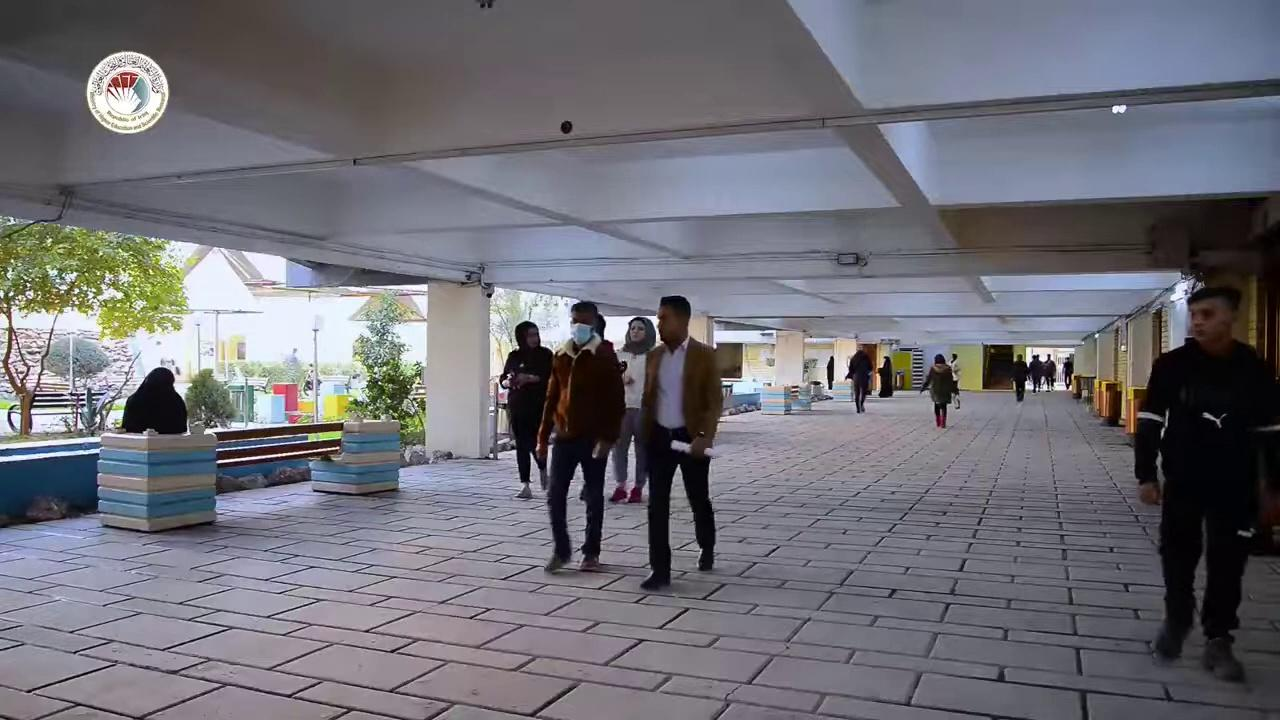person: (1133, 285, 1279, 682), (637, 294, 722, 589), (535, 301, 626, 573), (498, 320, 553, 499), (608, 316, 656, 504), (121, 366, 188, 434), (919, 353, 954, 428), (845, 345, 873, 413), (1011, 353, 1029, 401), (877, 356, 893, 397), (949, 353, 961, 407), (1029, 354, 1044, 393), (1043, 354, 1056, 391), (1062, 357, 1072, 388), (826, 355, 834, 389)
tree: (0, 213, 198, 336), (343, 289, 426, 452), (488, 286, 561, 441), (488, 287, 560, 364), (44, 332, 110, 393), (182, 367, 235, 431), (488, 287, 522, 365)
